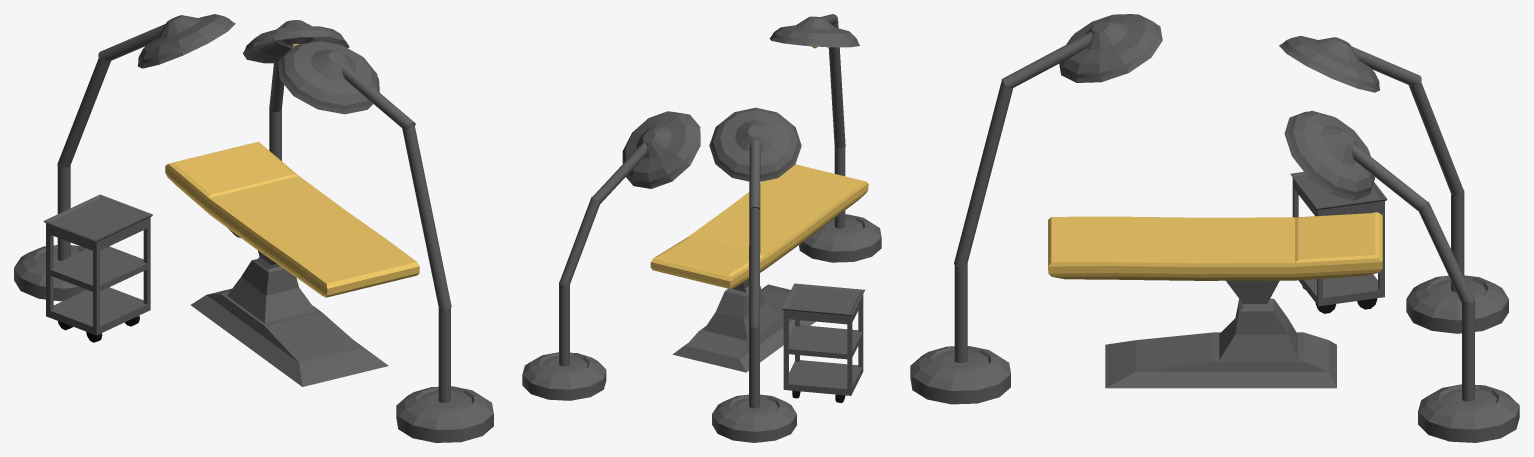
The model's file is DoctorsRoom.fbx.
3 renders of one model, left to right at view 1: azimuth 30°, elevation 25°; view 2: azimuth 150°, elevation 25°; view 3: azimuth 270°, elevation 25°, orthographic. The views are drawn at different scales.
Visible parts, largest first — view 1: Table, TableBase, SideTable, LightHead02, LightBase02, LightHead01, LightArms04, LightHead00, LightBase01, LightArms01, LightArms05, LightArms03 (+4 smaller); view 2: Table, SideTable, TableBase, LightHead01, LightHead00, LightBase01, LightBase00, LightBase02, LightHead02, LightArms01, LightArms04, LightArms06 (+5 smaller); view 3: Table, TableBase, LightHead00, LightHead02, LightBase02, LightBase00, SideTable, LightBase01, LightHead01, LightArms04, LightArms01, LightArms06 (+6 smaller).
Part boxes in pixels (x1,y1,x2,y2): Table: (165, 141, 419, 297); TableBase: (191, 250, 388, 386); SideTable: (43, 194, 152, 335); LightHead02: (278, 41, 379, 114); LightBase02: (396, 386, 493, 442); LightHead01: (137, 14, 235, 68); LightArms04: (402, 123, 451, 310); LightHead00: (243, 20, 349, 63); LightBase01: (14, 245, 86, 301); LightArms01: (57, 58, 110, 168); LightArms05: (438, 305, 450, 402); LightArms03: (341, 64, 415, 129); Table: (650, 164, 868, 289); SideTable: (781, 283, 864, 395); TableBase: (672, 279, 815, 372); LightHead01: (709, 107, 801, 181); LightHead00: (622, 111, 700, 188); LightBase01: (712, 394, 796, 442); LightBase00: (522, 352, 606, 400); LightBase02: (799, 214, 881, 262); LightHead02: (769, 16, 859, 47); LightArms01: (749, 207, 760, 327); LightArms04: (828, 16, 845, 148); LightArms06: (559, 197, 599, 287); Table: (1048, 212, 1382, 280); TableBase: (1105, 280, 1336, 388); LightHead00: (1284, 110, 1374, 200); LightHead02: (1059, 14, 1162, 82); LightBase02: (910, 346, 1010, 404); LightBase00: (1418, 384, 1519, 442); SideTable: (1290, 172, 1387, 306); LightBase01: (1406, 275, 1508, 333); LightHead01: (1279, 36, 1379, 92); LightArms04: (954, 80, 1013, 267); LightArms01: (1408, 82, 1464, 196); LightArms06: (1419, 202, 1474, 306).
Bounding box in the file's own units: 29.32 × 28.1 × 45.77.
